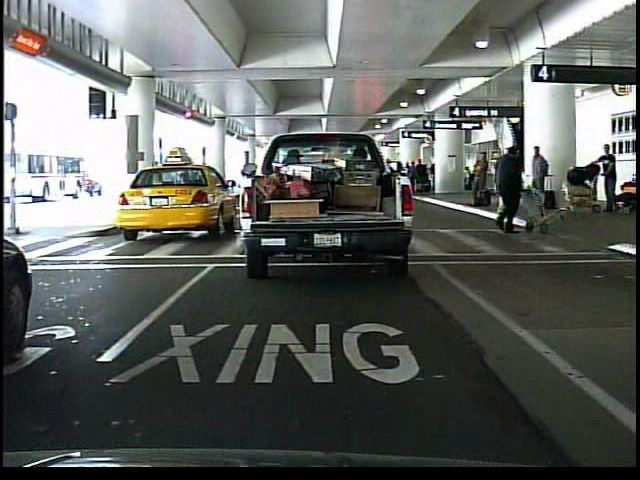person: (489, 145, 531, 237), (593, 139, 624, 216), (493, 146, 515, 224)
